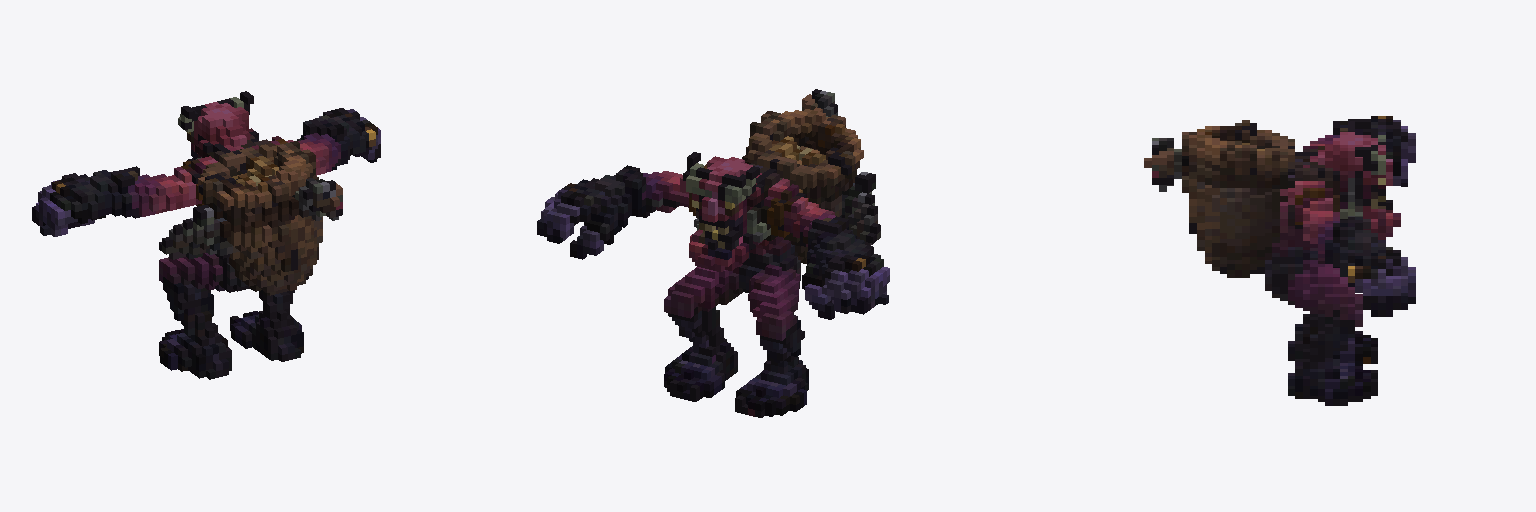
3 views of the same model, side by side, from view 1: azimuth 30°, elevation 25°; view 2: azimuth 150°, elevation 25°; view 3: azimuth 270°, elevation 25° (orthographic).
Parts seen in each view (by area): view 1: object 1; view 2: object 1; view 3: object 1.
Part boxes in pixels (x1,y1,x2,y2): object 1: (32,91,380,379); object 1: (537,89,889,417); object 1: (1144,116,1415,405).
Size of the model in its own units: 5.1 by 3.6 by 3.6.
Materials: 1 (1 with a texture image).